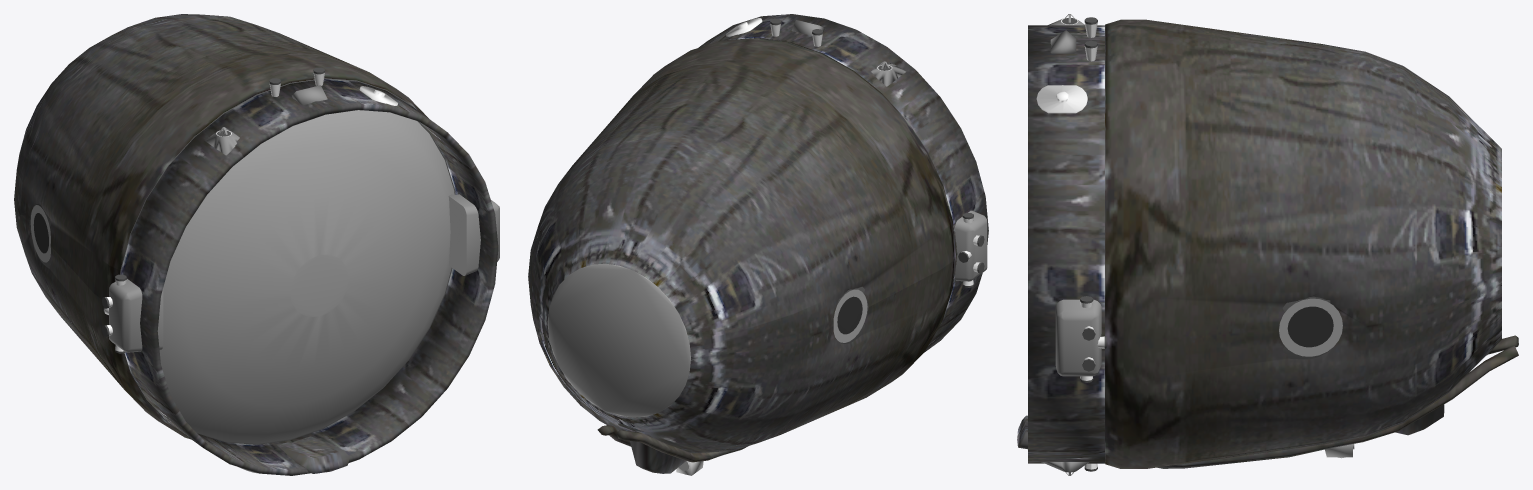
Rendered from tma-descent.obj.
3 views of the same model, side by side, from view 1: azimuth 30°, elevation 25°; view 2: azimuth 150°, elevation 25°; view 3: azimuth 270°, elevation 25° (orthographic). The views are drawn at different scales.
Parts seen in each view (by area): view 1: group3, group2, group11, group1, group13; view 2: group3, group2, group11, group1, group13, group5; view 3: group3, group11, group1, group2, group5, group13.
Part boxes in pixels (x1=…): group3: x1=14, y1=14, x2=498, y2=475; group2: x1=30, y1=110, x2=454, y2=443; group11: x1=109, y1=85, x2=499, y2=352; group1: x1=104, y1=73, x2=466, y2=473; group13: x1=29, y1=67, x2=455, y2=444; group3: x1=528, y1=14, x2=988, y2=473; group2: x1=547, y1=263, x2=867, y2=417; group11: x1=791, y1=20, x2=987, y2=281; group1: x1=726, y1=18, x2=980, y2=285; group13: x1=770, y1=18, x2=984, y2=343; group5: x1=837, y1=296, x2=862, y2=334; group3: x1=1017, y1=19, x2=1518, y2=468; group11: x1=1041, y1=14, x2=1101, y2=475; group1: x1=1036, y1=17, x2=1104, y2=469; group2: x1=1279, y1=298, x2=1342, y2=356; group5: x1=1287, y1=306, x2=1333, y2=347; group13: x1=1062, y1=17, x2=1342, y2=471.
Size of the model in its own units: 2.45 by 2.32 by 2.48.
